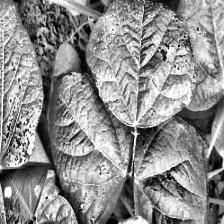ALS: (84, 0, 197, 124), (46, 69, 131, 224), (0, 0, 43, 171)
